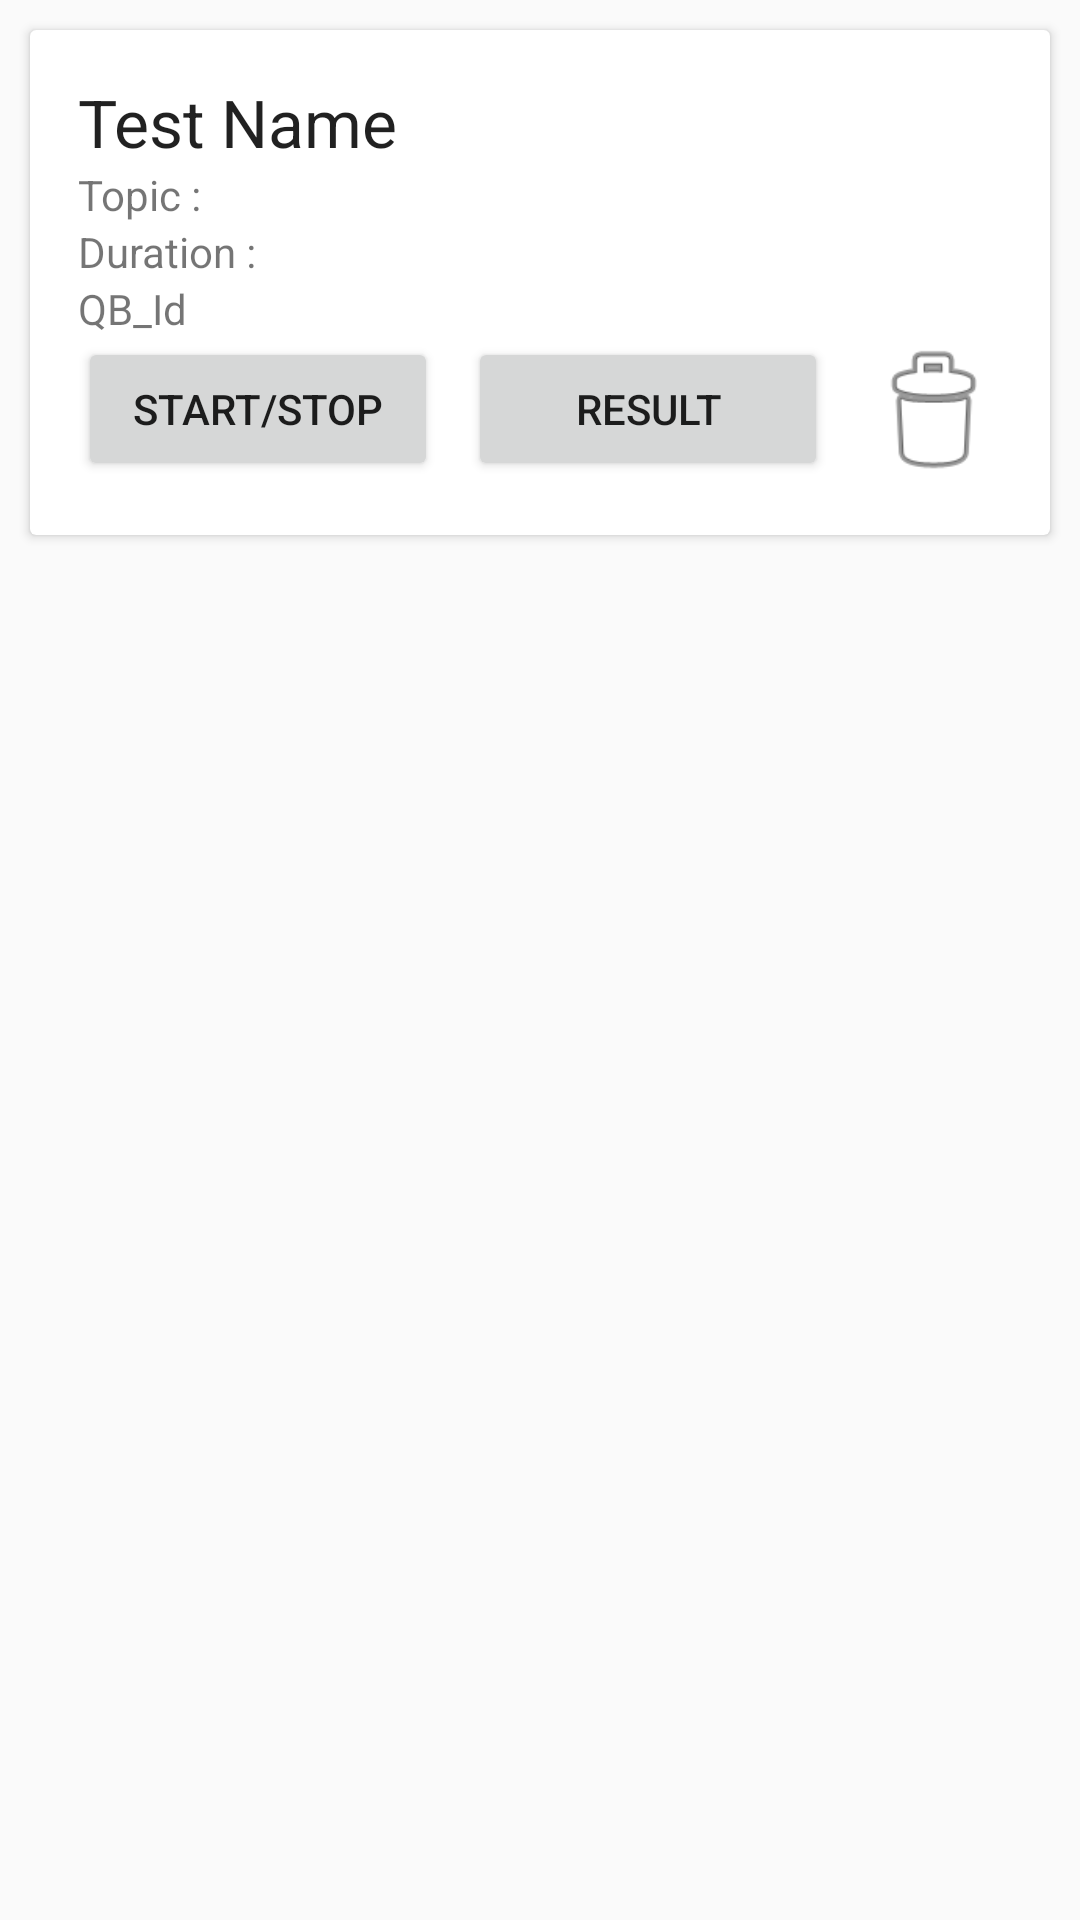

Locate icon controls on the screen. Image size 1080 x 1920, boxes as bbox=(x1, y1, x2, y2).
delete: bbox=(891, 351, 976, 468)
